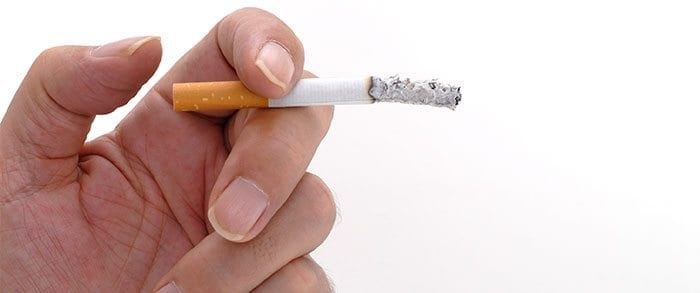sigaretta: (151, 78, 456, 119)
